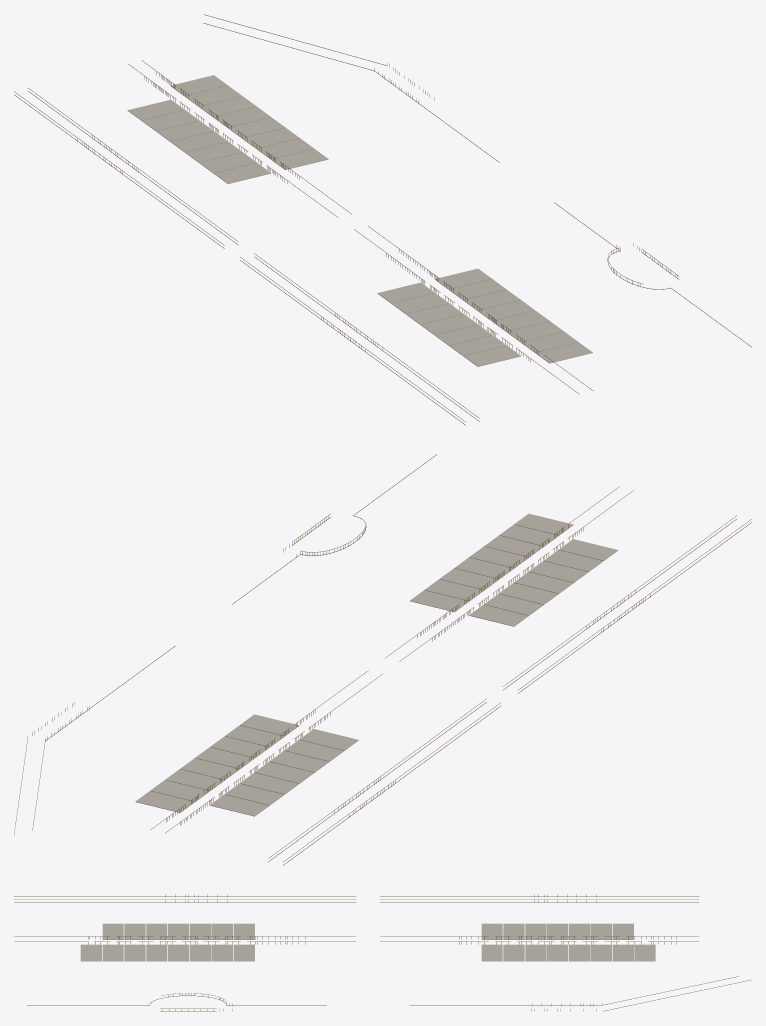
Rendered from QuietGrove30Receiving_r001.glb.
3 views of the same model, one above another, from view 1: azimuth 30°, elevation 25°; view 2: azimuth 150°, elevation 25°; view 3: azimuth 270°, elevation 25° (orthographic). The views are drawn at different scales.
Visible parts, largest first — view 1: QG_Batch_70, QG_Batch_58, QG_Batch_74; view 2: QG_Batch_70, QG_Batch_58, QG_Batch_74, QG30_Bearing_559, QG30_Bearing_421, QG30_Bearing_499, QG30_Bearing_571, QG30_Bearing_409, QG30_Bearing_415, QG30_Bearing_433, QG30_Bearing_439, QG30_Bearing_445 (+21 smaller); view 3: QG_Batch_70, QG_Batch_58, QG_Batch_74, QG_Batch_87, QG30_Bearing_427, QG30_Bearing_451, QG30_Bearing_529, QG30_Bearing_571, QG30_Bearing_403, QG30_Bearing_409, QG30_Bearing_433, QG30_Bearing_457 (+24 smaller).
Boxes of the visible parts, x1=… form: QG_Batch_70: x1=240, y1=226, x2=679, y2=421; QG_Batch_58: x1=14, y1=60, x2=434, y2=245; QG_Batch_74: x1=240, y1=251, x2=678, y2=425; QG_Batch_70: x1=283, y1=486, x2=751, y2=690; QG_Batch_58: x1=27, y1=670, x2=501, y2=861; QG_Batch_74: x1=292, y1=517, x2=751, y2=693; QG30_Bearing_559: x1=209, y1=794, x2=269, y2=816; QG30_Bearing_421: x1=469, y1=604, x2=528, y2=626; QG30_Bearing_499: x1=180, y1=758, x2=239, y2=779; QG30_Bearing_571: x1=135, y1=791, x2=194, y2=812; QG30_Bearing_409: x1=410, y1=590, x2=468, y2=611; QG30_Bearing_415: x1=299, y1=729, x2=358, y2=750; QG30_Bearing_433: x1=424, y1=579, x2=483, y2=601; QG30_Bearing_439: x1=284, y1=740, x2=343, y2=761; QG30_Bearing_445: x1=484, y1=593, x2=543, y2=615; QG_Batch_70: x1=14, y1=894, x2=355, y2=1011; QG_Batch_58: x1=380, y1=894, x2=698, y2=1011; QG_Batch_74: x1=14, y1=896, x2=355, y2=1011; QG_Batch_87: x1=380, y1=896, x2=698, y2=944; QG30_Bearing_427: x1=503, y1=944, x2=524, y2=961; QG30_Bearing_451: x1=525, y1=944, x2=546, y2=961; QG30_Bearing_529: x1=124, y1=944, x2=145, y2=961; QG30_Bearing_571: x1=634, y1=944, x2=655, y2=961; QG30_Bearing_403: x1=481, y1=944, x2=502, y2=961; QG30_Bearing_409: x1=233, y1=944, x2=254, y2=961; QG30_Bearing_433: x1=211, y1=944, x2=232, y2=961; QG30_Bearing_457: x1=190, y1=944, x2=211, y2=961.
Size of the model in its own units: 91.87 by 1.38 by 250.
3 materials, 2 textured.
